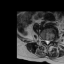CCS_normal: (46, 37, 48, 46)
LFS_normal: (50, 36, 52, 42)
LLS_normal: (48, 38, 50, 45)
RFS_stenosis: (42, 36, 44, 42)
RLS_normal: (44, 37, 46, 44)
